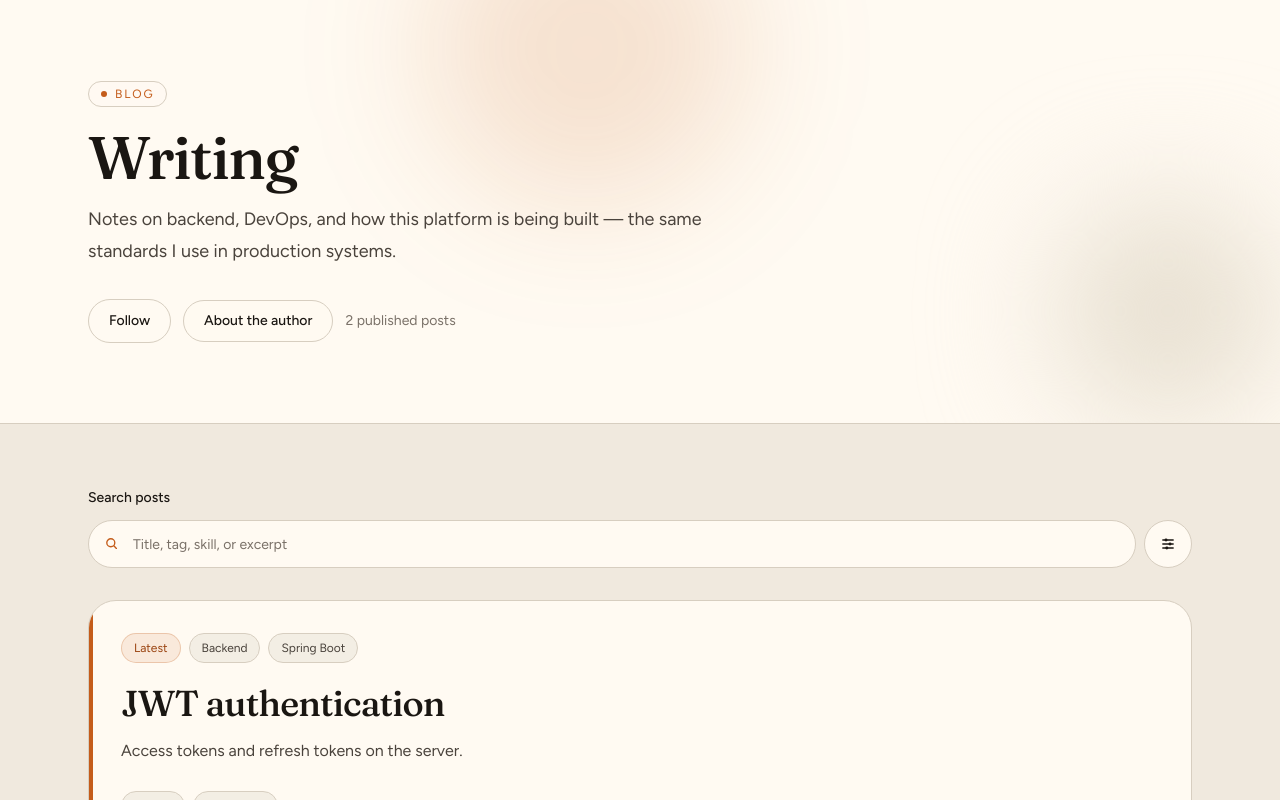
Test case: BlogPage › renders published posts and hides drafts
Expected: the heading "Writing" is shown, [88,120,297,194]
Expected: the heading "JWT authentication" is shown, [121,681,445,725]
Click the button named "Filters": (1168, 544) [1144,520,1192,568]
(page scrolled)
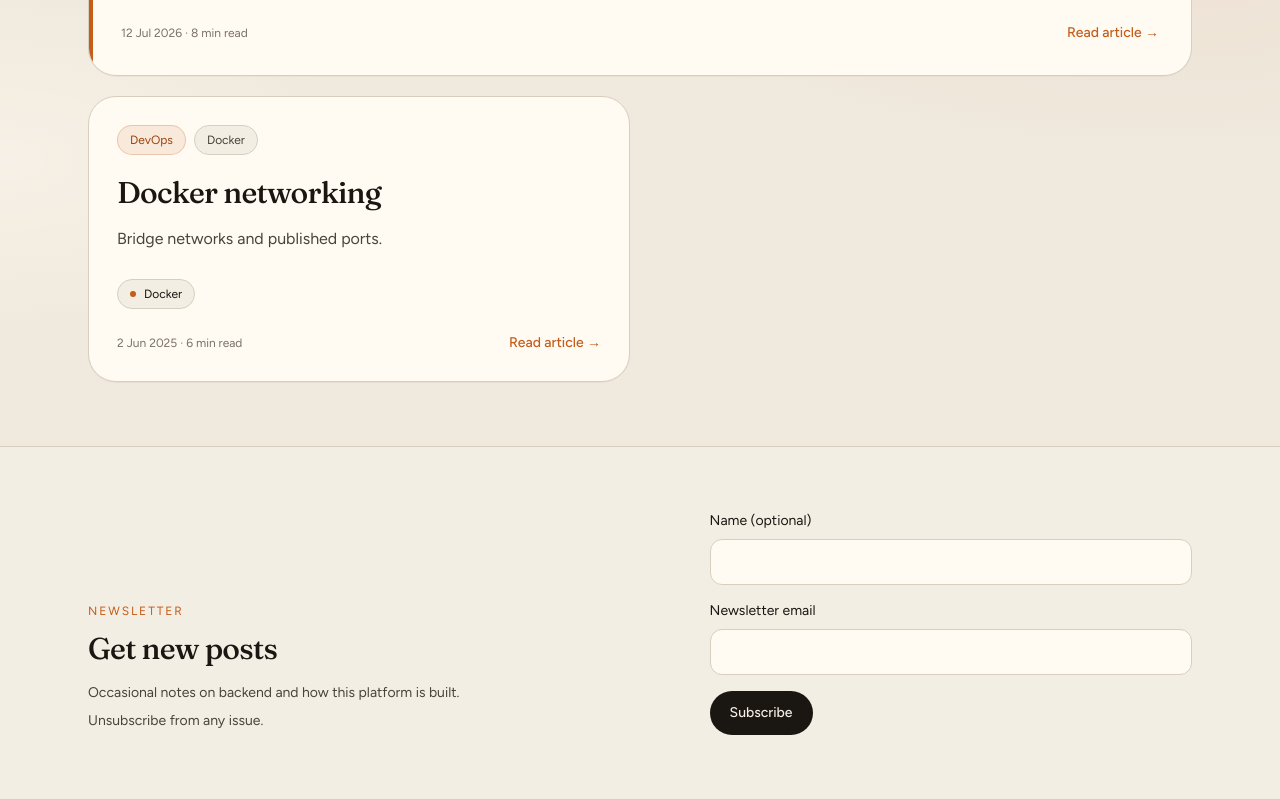
Expected: the heading "Get new posts" is shown, [88,630,277,667]
